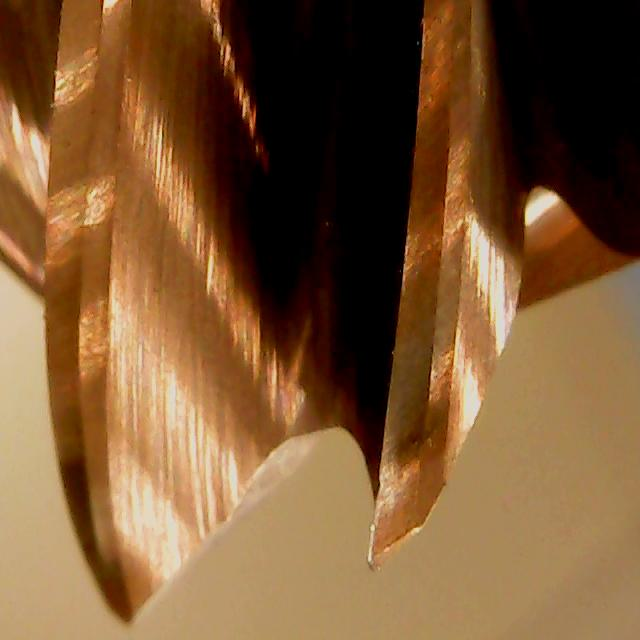Tool-wear-class-0: (349, 170, 473, 571)
